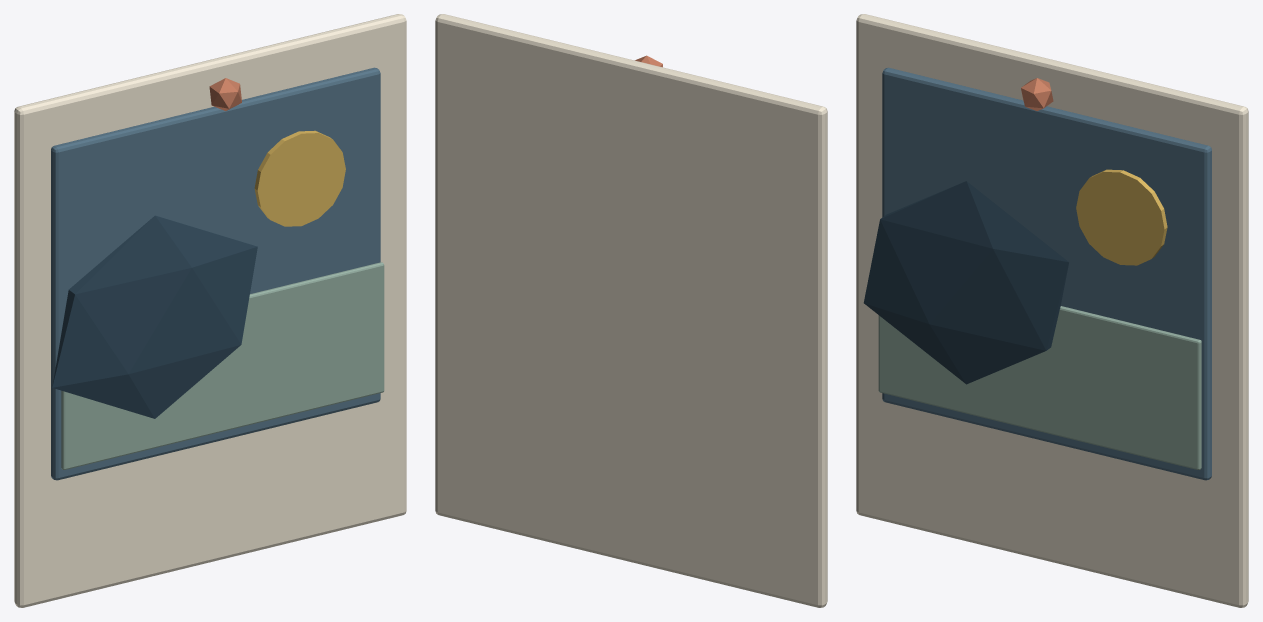
File: photo_card.glb
3 views of the same model, side by side, from view 1: azimuth 30°, elevation 25°; view 2: azimuth 150°, elevation 25°; view 3: azimuth 330°, elevation 25° (orthographic).
Visible parts, largest first — view 1: photo_card_Mesh; view 2: photo_card_Mesh; view 3: photo_card_Mesh.
Boxes of the visible parts, x1,y1,x2,y2 form: photo_card_Mesh: [14, 14, 406, 607]; photo_card_Mesh: [435, 14, 827, 607]; photo_card_Mesh: [856, 14, 1248, 607].
Size of the model in its own units: 0.22 by 0.27 by 0.0262.
